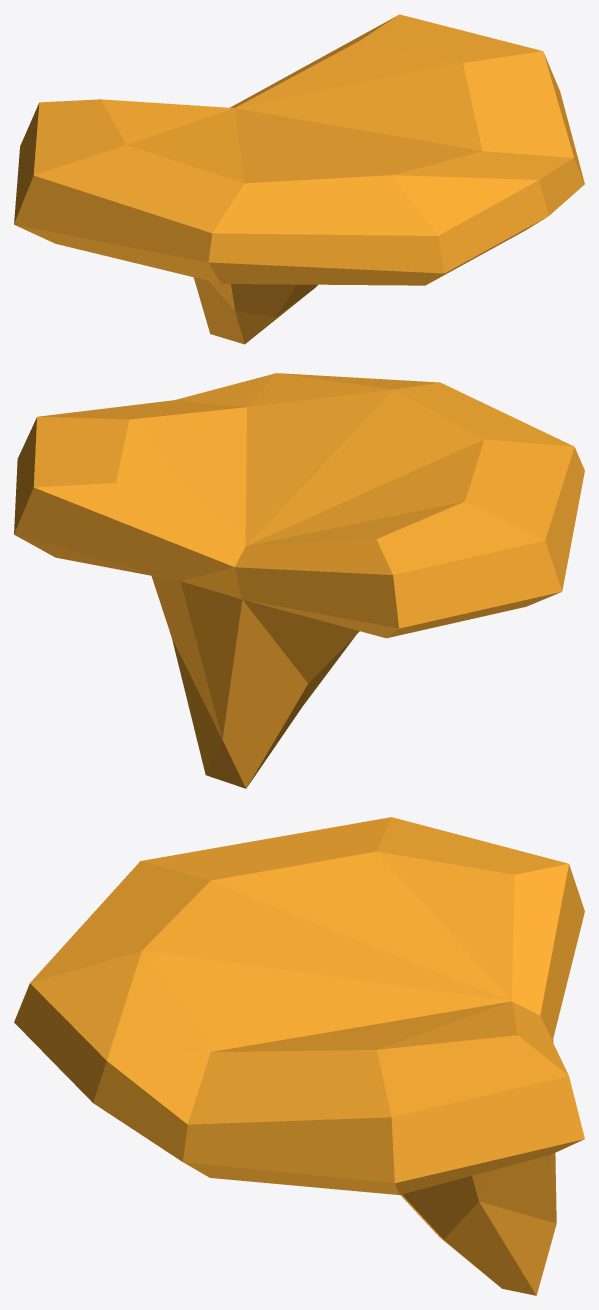
Rendered from SM_Mushroom_Polypore_Scaly_A.fbx.
3 views of the same model, one above another, from view 1: azimuth 30°, elevation 25°; view 2: azimuth 150°, elevation 25°; view 3: azimuth 270°, elevation 25° (orthographic). The views are drawn at different scales.
Parts seen in each view (by area): view 1: mushroom-polypore-scaly-a; view 2: mushroom-polypore-scaly-a; view 3: mushroom-polypore-scaly-a.
Part boxes in pixels (<box>): mushroom-polypore-scaly-a: <box>14,14,584,344</box>; mushroom-polypore-scaly-a: <box>14,373,584,788</box>; mushroom-polypore-scaly-a: <box>14,817,584,1295</box>.
Size of the model in its own units: 0.3458 by 0.1688 by 0.2593.
